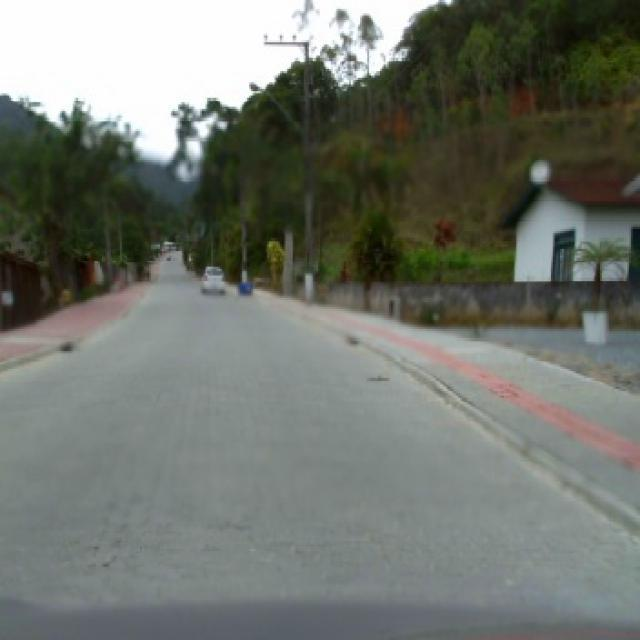Poth-hole: (56, 340, 73, 351), (346, 333, 356, 342)
